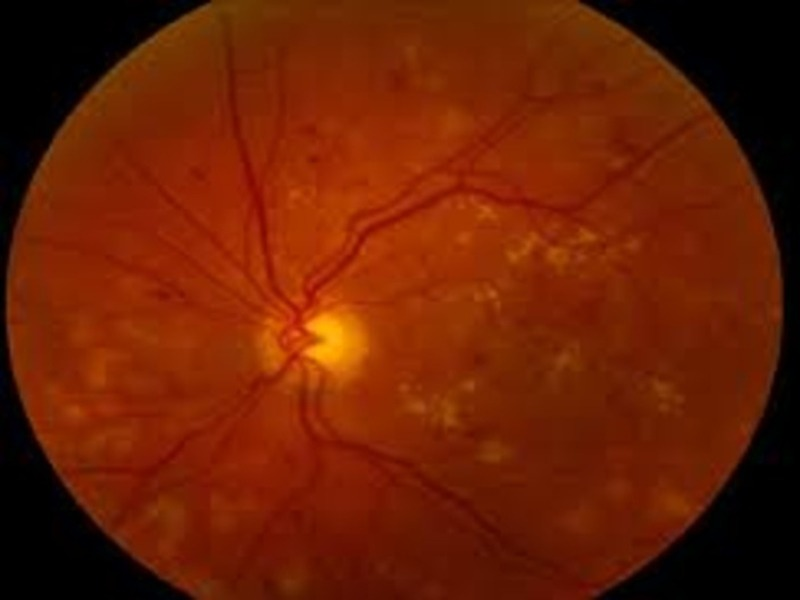Optic Cup: (302, 312, 345, 364)
Optic Disc: (254, 299, 373, 388)
